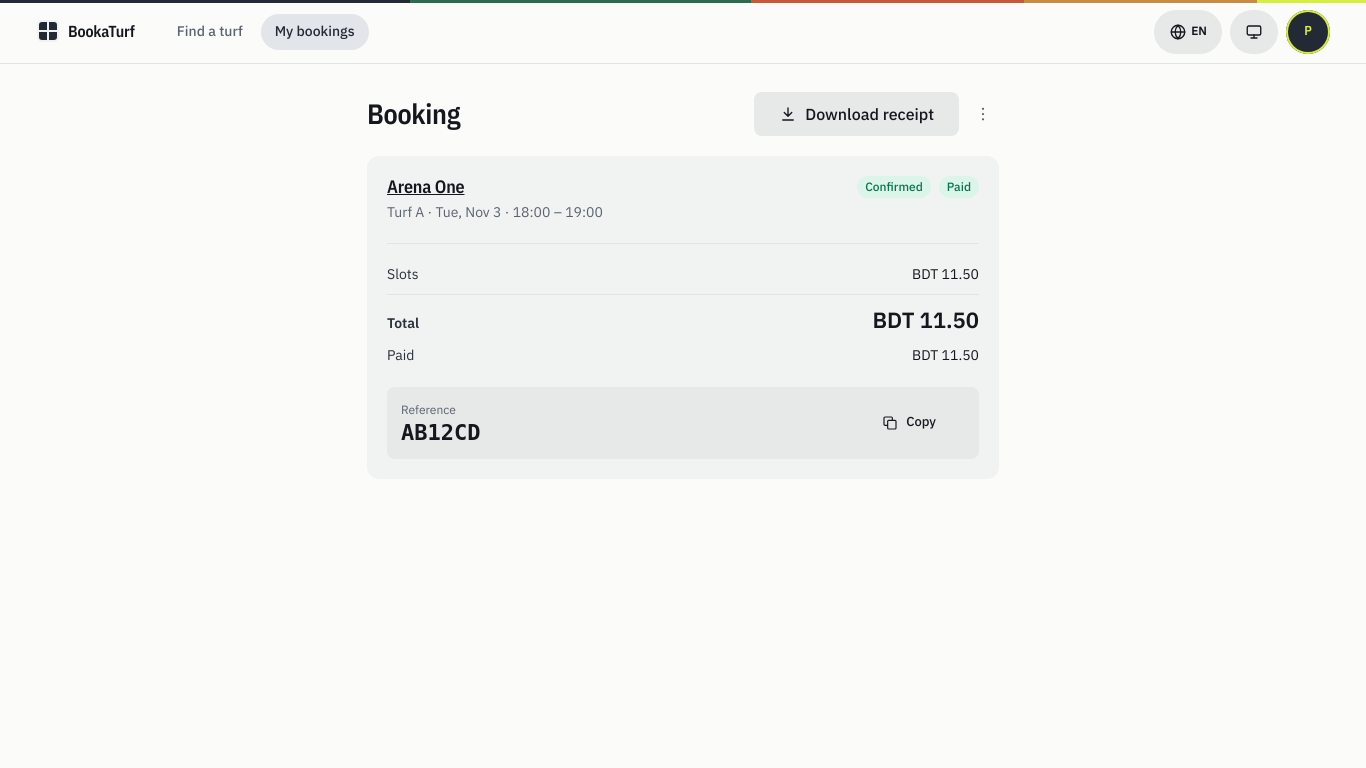
Scenario: cancel dialog › zero refund says no refund
Click the button named "More actions" at (983, 114), box [967,98,999,130]
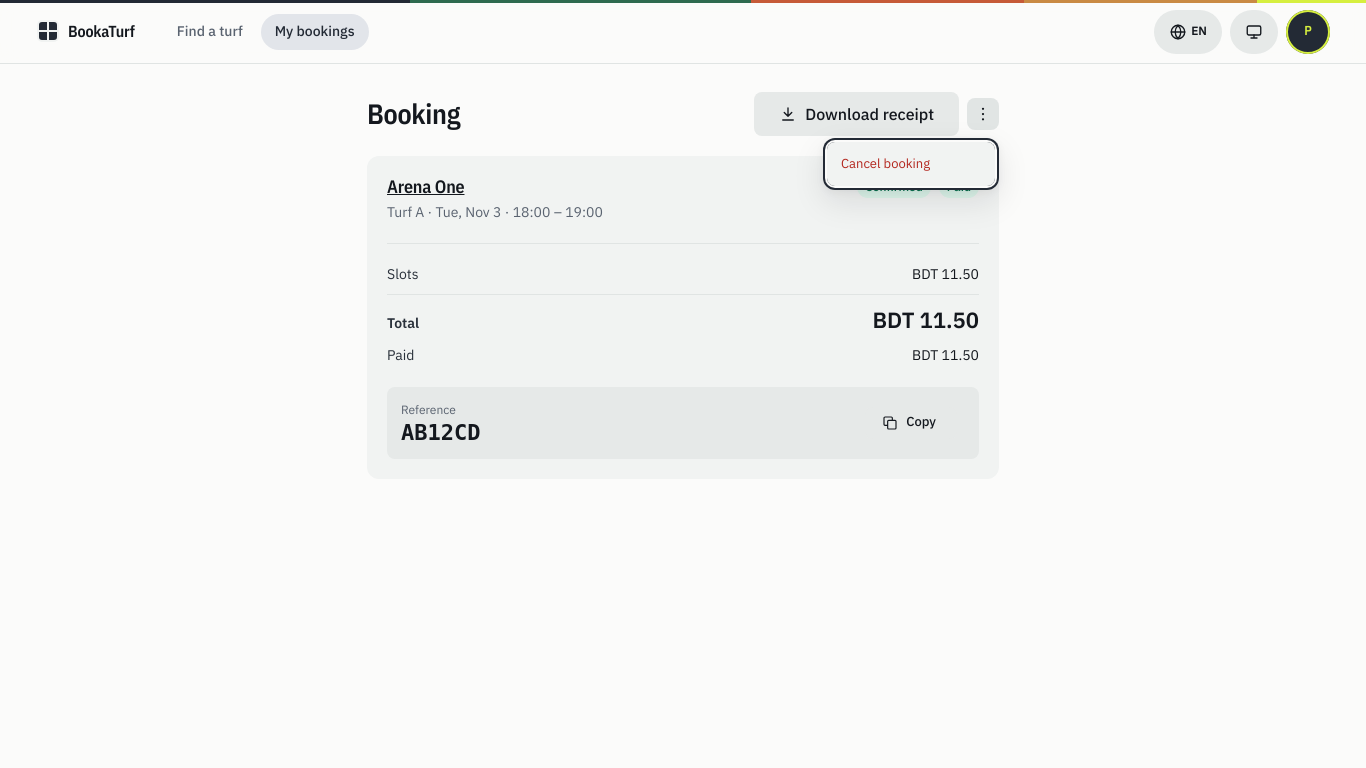
Click the menu item "Cancel booking" at (911, 164), box [827,142,995,186]
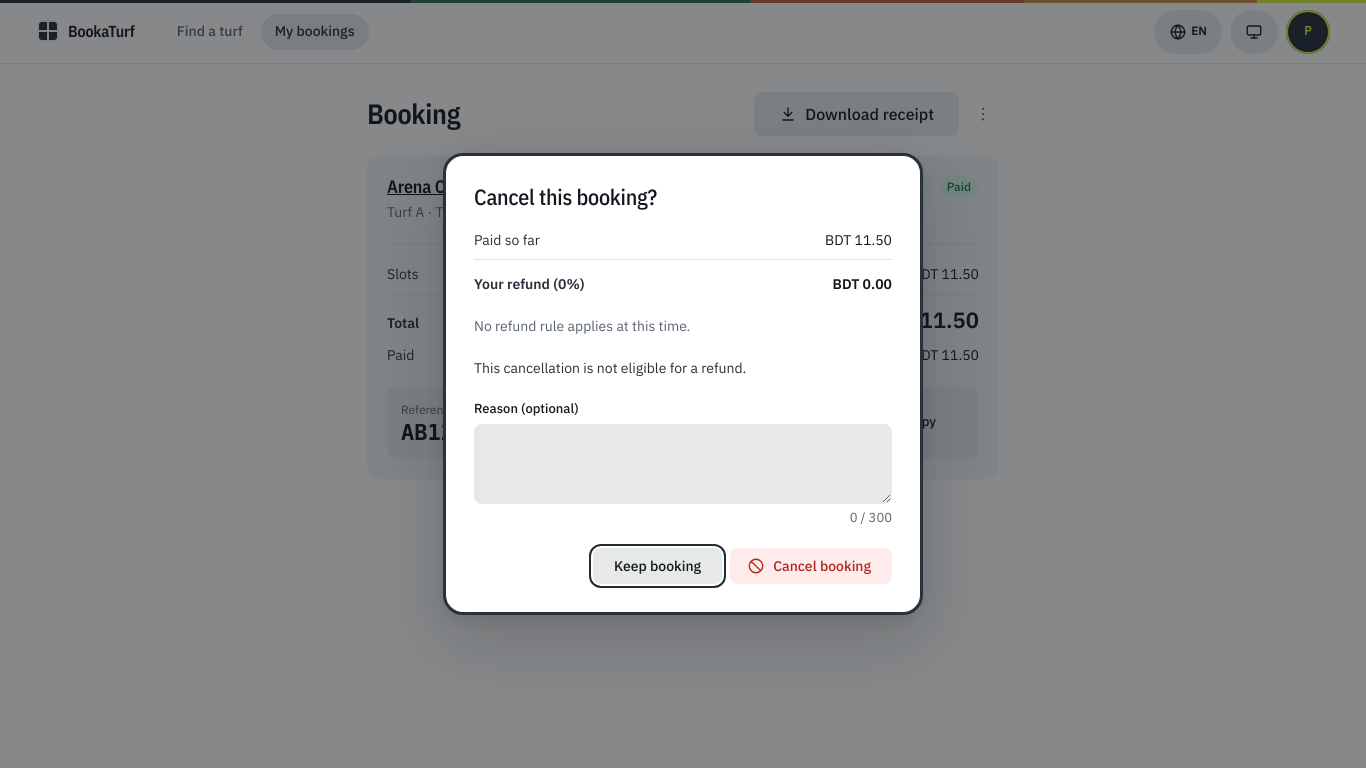
Expected: the text "This cancellation is not eligible for a refund." is shown, [474,359,746,377]
Expected: the text "No refund rule applies at this time." is shown, [474,317,690,335]
